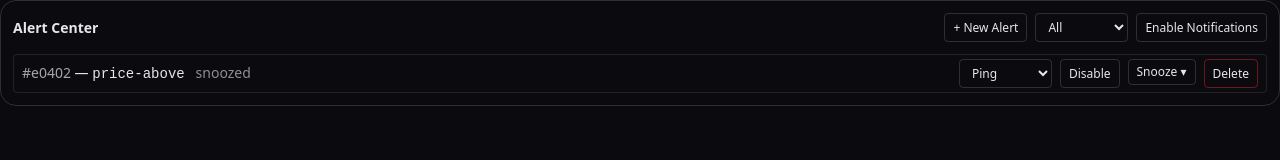
Test case: AlertsPanel › filter functionality › should not include snoozed alerts in active filter
Step 1. Select "Active" in the dropdown showing "All" in the row of "Alert Center" → (1082, 28), box [1035,13,1128,42]
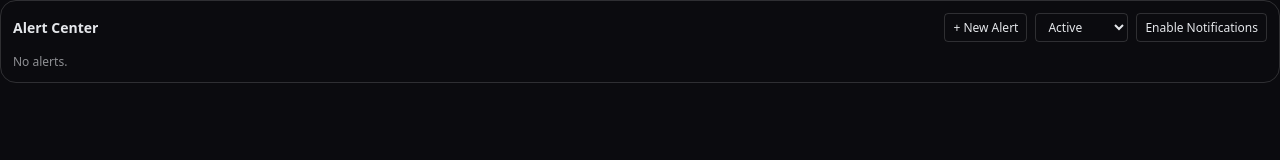
Expected: the text "No alerts." is shown, [13,53,67,70]
